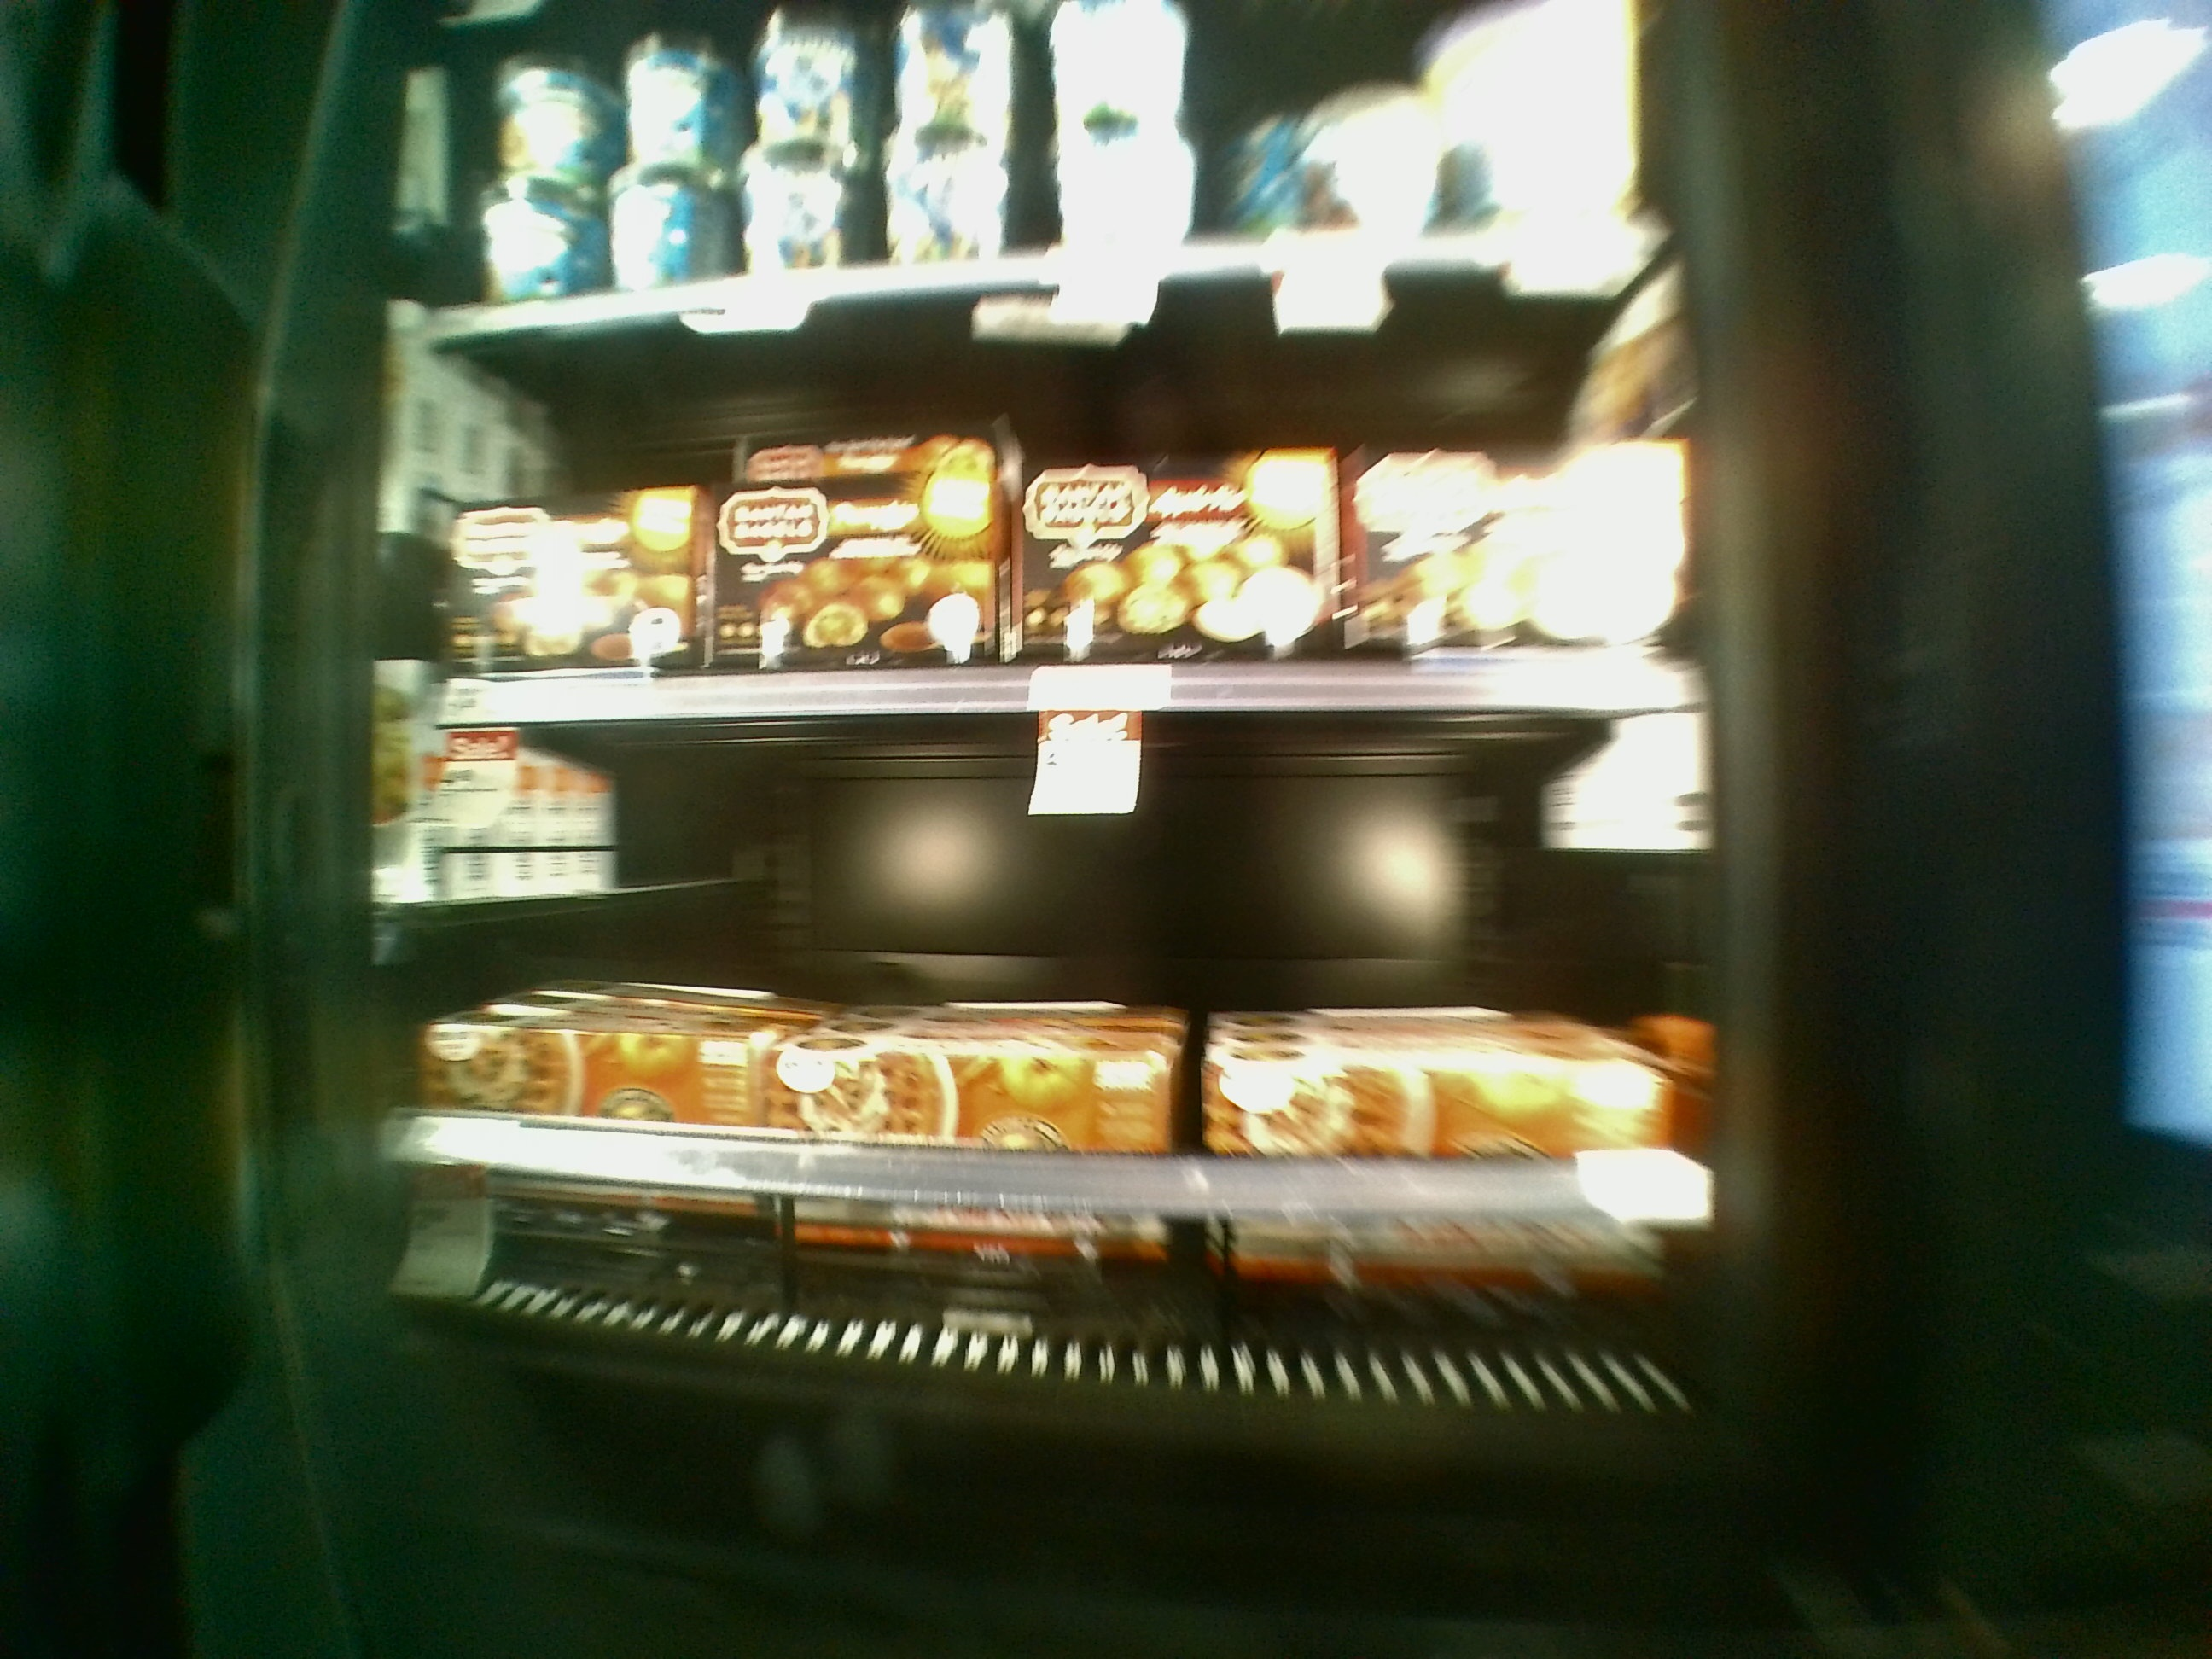shelf: (402, 713, 1712, 1436), (402, 347, 1695, 721)
